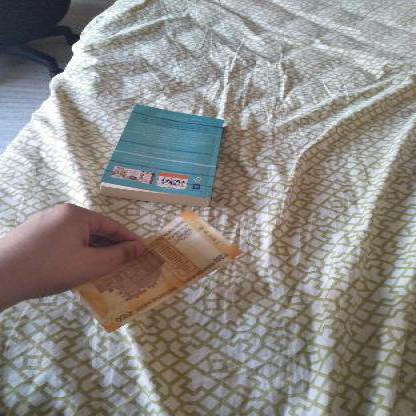New200Back: (75, 210, 229, 328)
